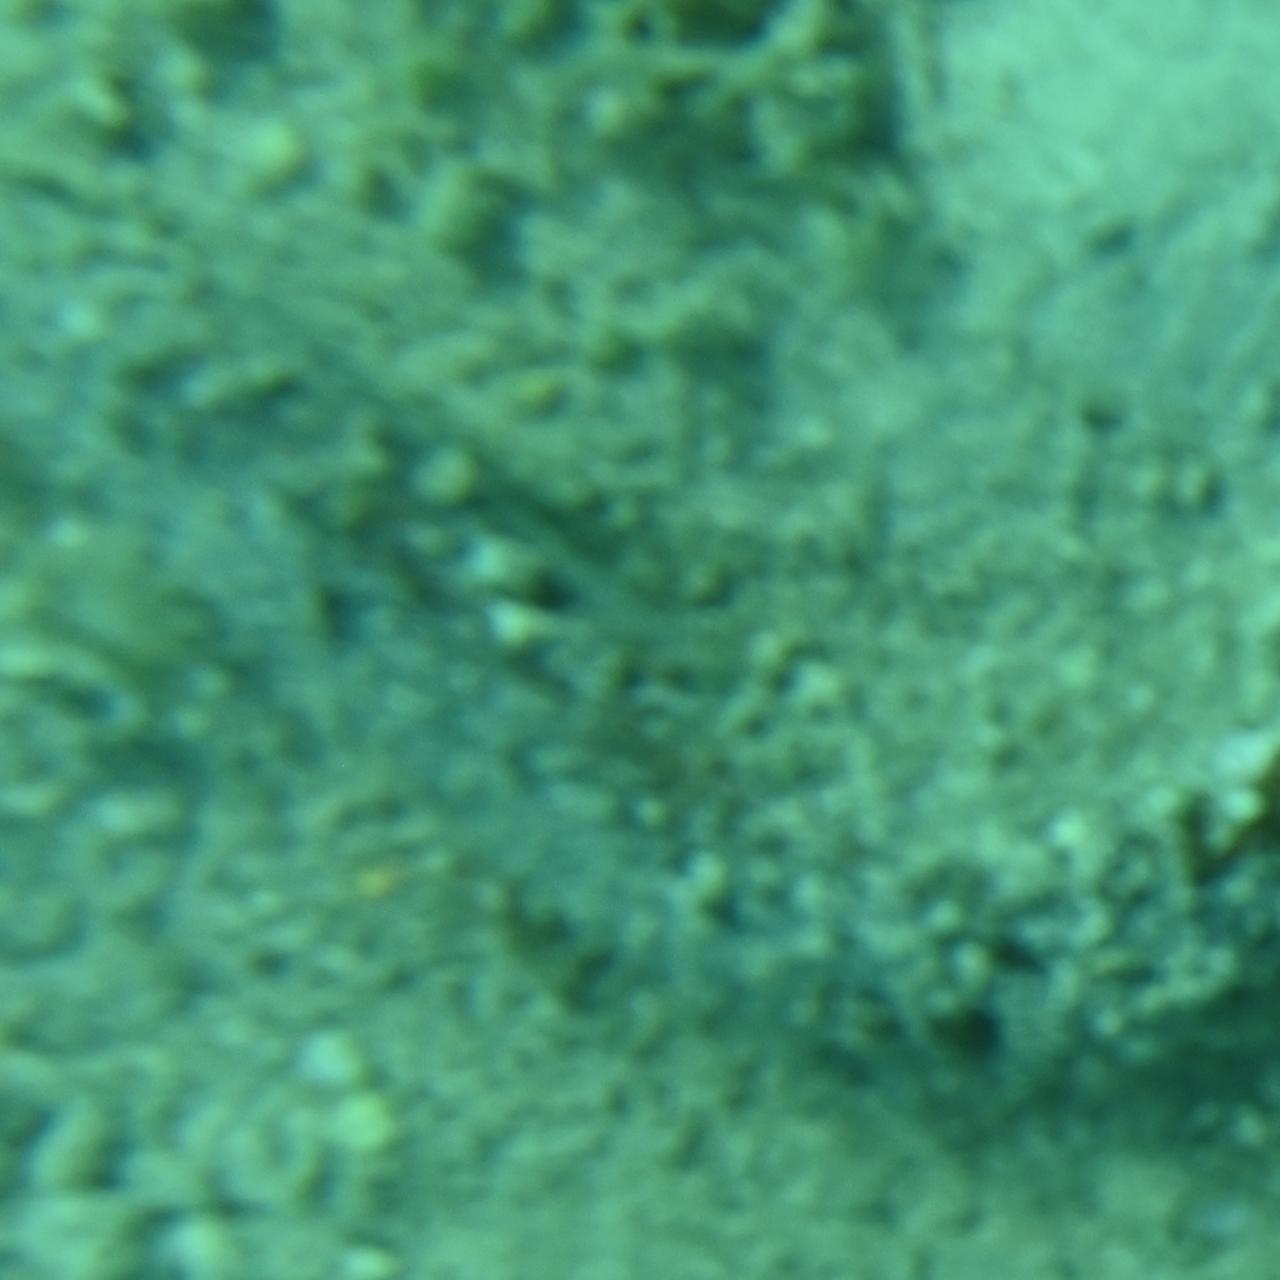Holothuria tubulosa: (0, 123, 1280, 1157)
